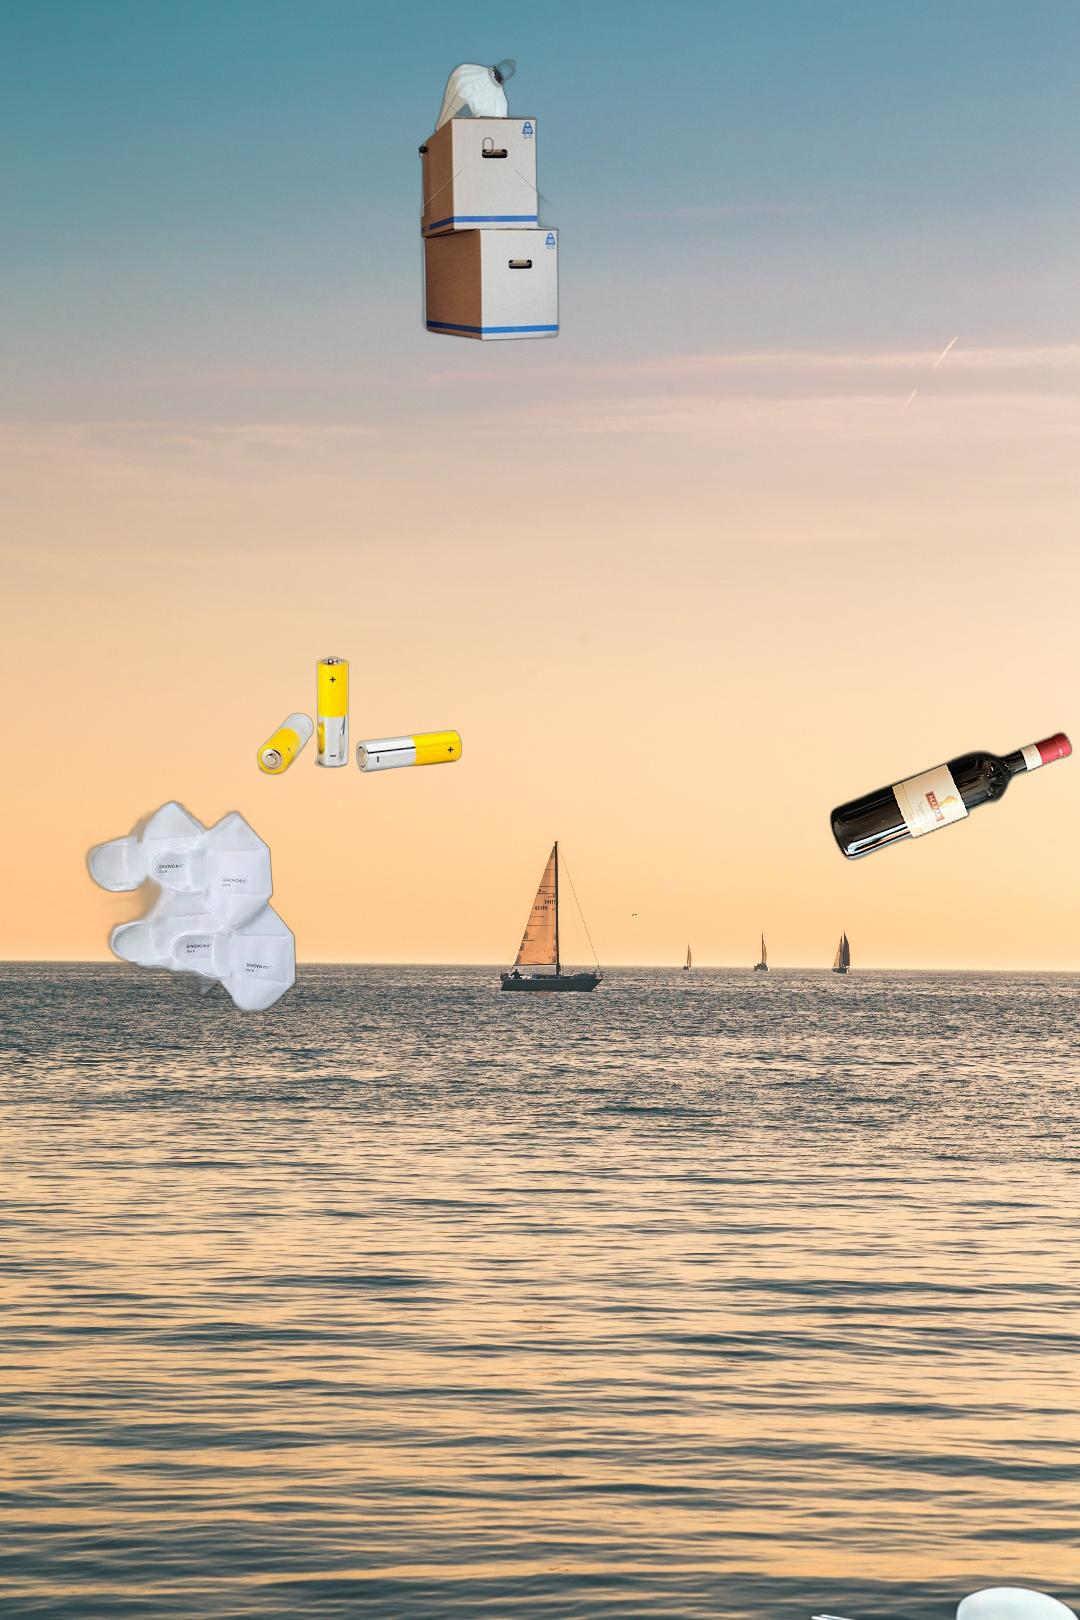battery: (254, 655, 463, 777)
biological: (800, 1581, 1080, 1620)
glass: (824, 727, 1078, 865)
trash: (81, 796, 305, 1020)
trashbox-cardboard: (415, 55, 563, 344)
